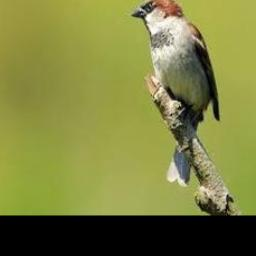Sparrow: (132, 0, 221, 186)
